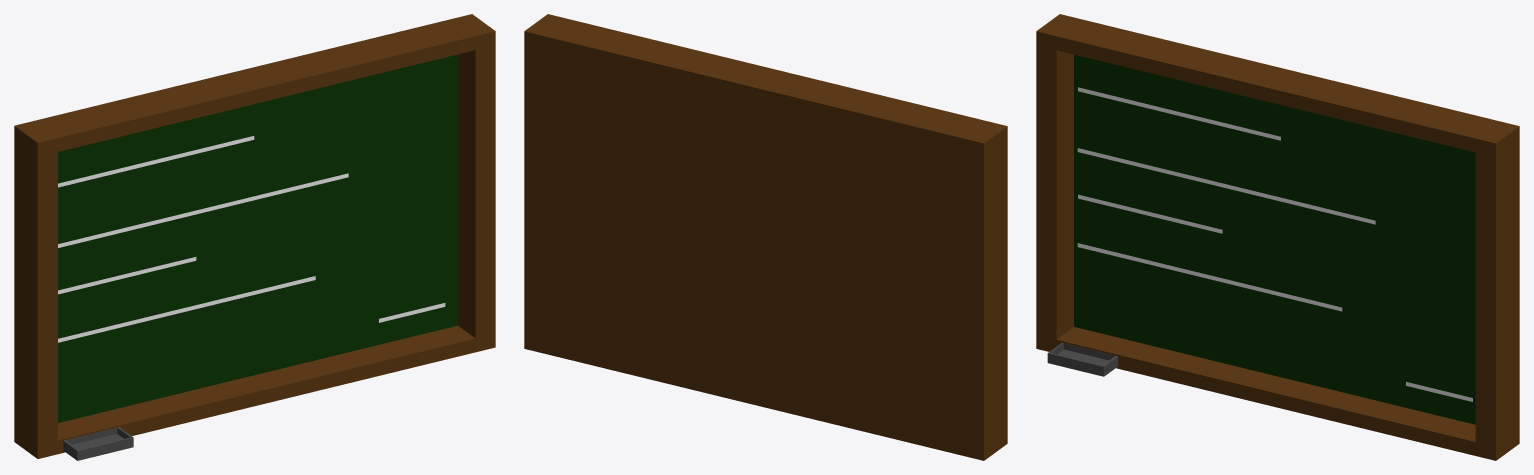
Rendered from board.fbx.
3 views of the same model, side by side, from view 1: azimuth 30°, elevation 25°; view 2: azimuth 150°, elevation 25°; view 3: azimuth 330°, elevation 25° (orthographic).
Parts seen in each view (by area): view 1: Cube.002; view 2: Cube.002; view 3: Cube.002.
Part boxes in pixels (box(x1,y1,x2,y2)): Cube.002: box(14, 14, 495, 460); Cube.002: box(524, 14, 1007, 460); Cube.002: box(1036, 14, 1519, 460).
Size of the model in its own units: 557 by 368 by 79.61.
